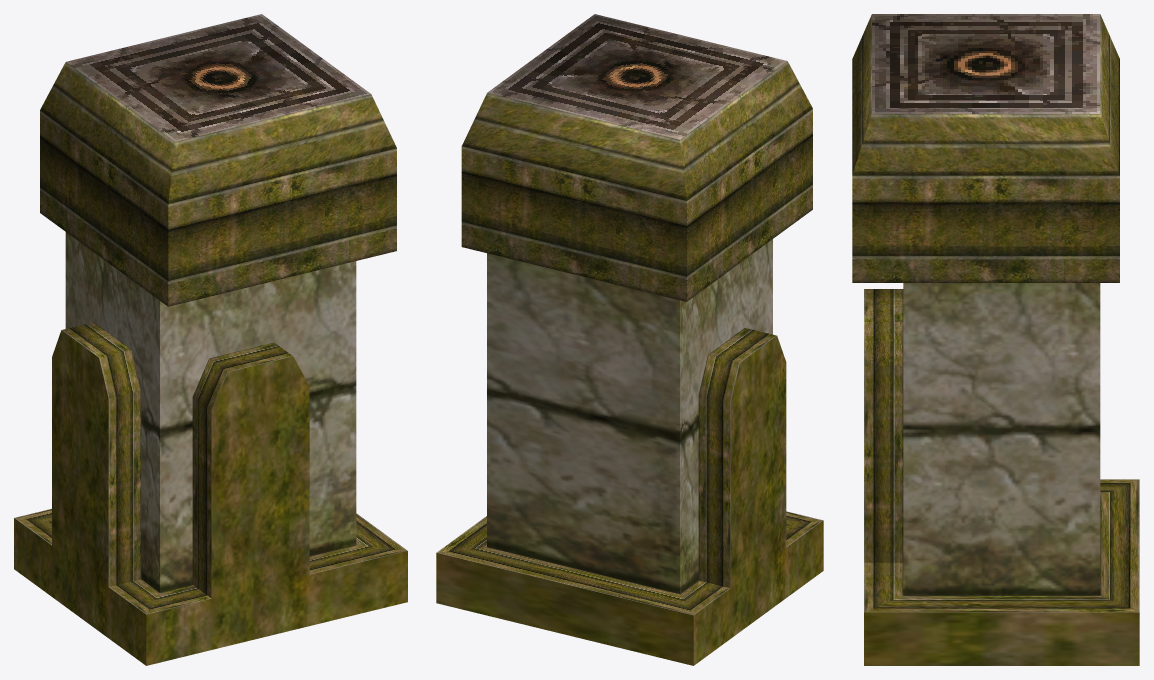
The model's file is OVERHILL_A_01_OBJECT60.fbx.
3 views of the same model, side by side, from view 1: azimuth 30°, elevation 25°; view 2: azimuth 150°, elevation 25°; view 3: azimuth 270°, elevation 25° (orthographic). The views are drawn at different scales.
Visible parts, largest first — view 1: OVERHILL_A_01_OBJECT60; view 2: OVERHILL_A_01_OBJECT60; view 3: OVERHILL_A_01_OBJECT60.
Boxes of the visible parts, <box> form: OVERHILL_A_01_OBJECT60: <box>14,14,407,665</box>; OVERHILL_A_01_OBJECT60: <box>436,14,823,665</box>; OVERHILL_A_01_OBJECT60: <box>852,14,1139,665</box>.
Bounding box in the file's own units: 16000 × 30000 × 14599.
5 materials, 5 textured.
